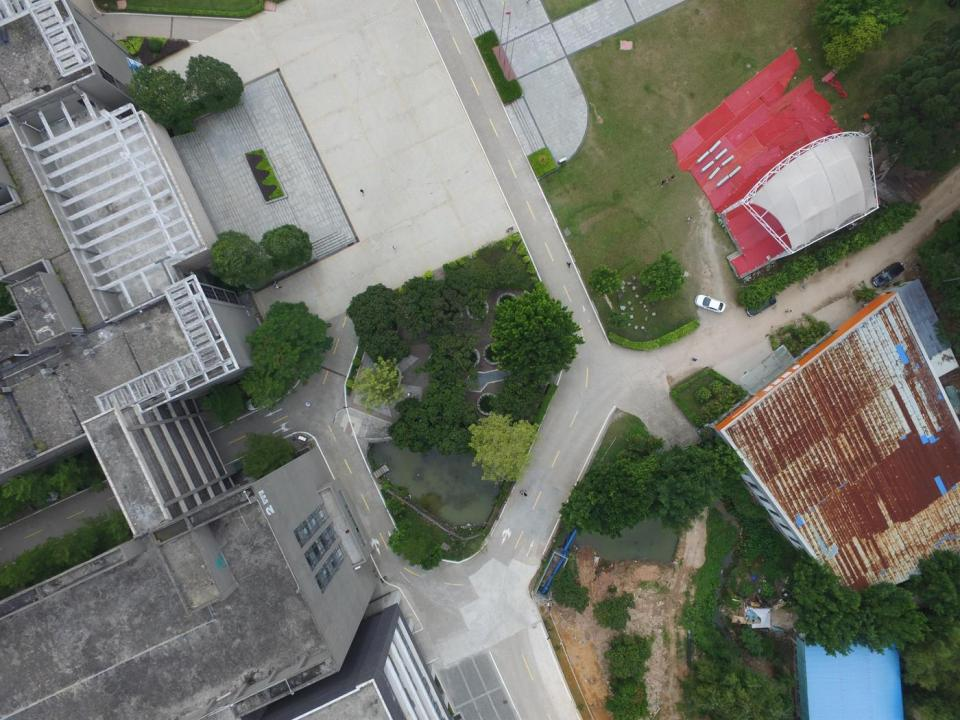car: (871, 262, 904, 288), (745, 296, 778, 318), (694, 294, 727, 314), (245, 391, 269, 412)
